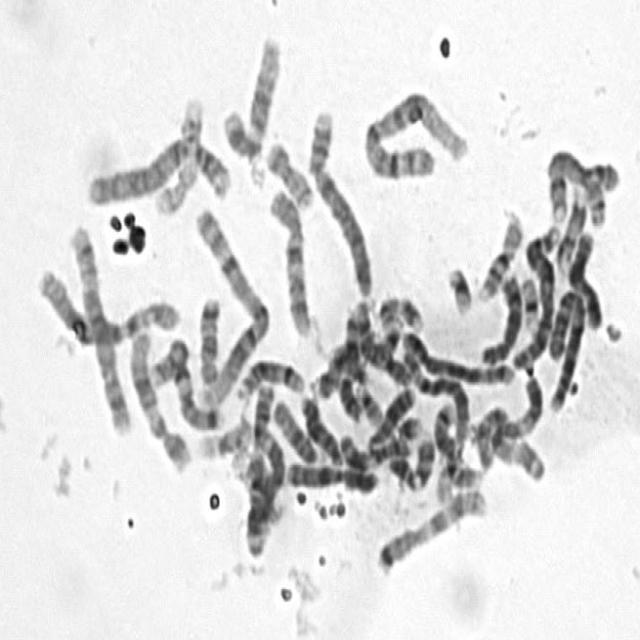A1: (190, 203, 274, 405), (360, 83, 471, 181)
A2: (509, 217, 561, 372), (544, 282, 588, 416)
A3: (242, 372, 286, 562), (474, 368, 547, 479)
B4: (304, 100, 377, 298), (83, 131, 235, 207)
B5: (63, 216, 133, 436), (398, 323, 516, 388)
C10: (264, 182, 314, 338), (352, 300, 411, 390)
C11: (336, 426, 415, 472), (336, 309, 366, 416)
C12: (125, 321, 195, 474), (220, 29, 283, 165)
C6: (35, 261, 182, 350), (408, 356, 468, 475)
C7: (372, 482, 489, 578), (156, 331, 229, 433)
C8: (541, 143, 606, 227), (477, 266, 524, 368)
C9: (556, 162, 623, 272), (384, 427, 437, 493)
D13: (295, 386, 345, 468), (364, 382, 417, 452)
D14: (232, 353, 307, 404), (429, 405, 466, 464)
D15: (268, 394, 320, 466), (471, 399, 511, 471)
E16: (475, 204, 527, 303), (244, 449, 284, 526)
E17: (152, 101, 210, 233), (374, 289, 425, 334)
E18: (311, 335, 371, 407), (194, 288, 223, 388)
F19: (194, 413, 253, 462), (518, 270, 542, 332)
F20: (262, 133, 315, 211), (432, 462, 486, 507)
G21: (442, 258, 474, 318), (393, 410, 424, 444)
G22: (352, 379, 385, 427), (376, 316, 404, 368)
X: (565, 226, 605, 332), (281, 455, 381, 496)
